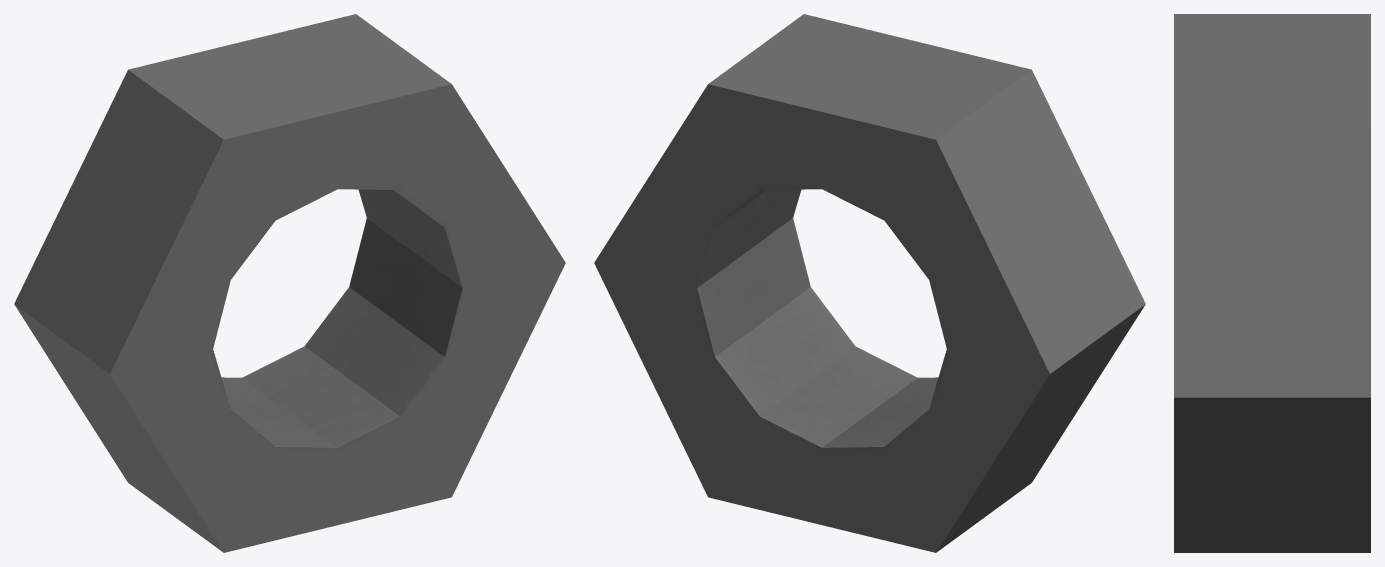
Rendered from nut.dae.
3 views of the same model, side by side, from view 1: azimuth 30°, elevation 25°; view 2: azimuth 150°, elevation 25°; view 3: azimuth 270°, elevation 25° (orthographic). The views are drawn at different scales.
Parts seen in each view (by area): view 1: Circle; view 2: Circle; view 3: Circle.
Boxes of the visible parts, left/top/right/bottom form: Circle: left=14, top=14, right=565, bottom=552; Circle: left=594, top=14, right=1145, bottom=552; Circle: left=1174, top=14, right=1370, bottom=552.
Bounding box in the file's own units: 0.0507 × 0.0185 × 0.0439.
Materials: 1 (1 with a texture image).
